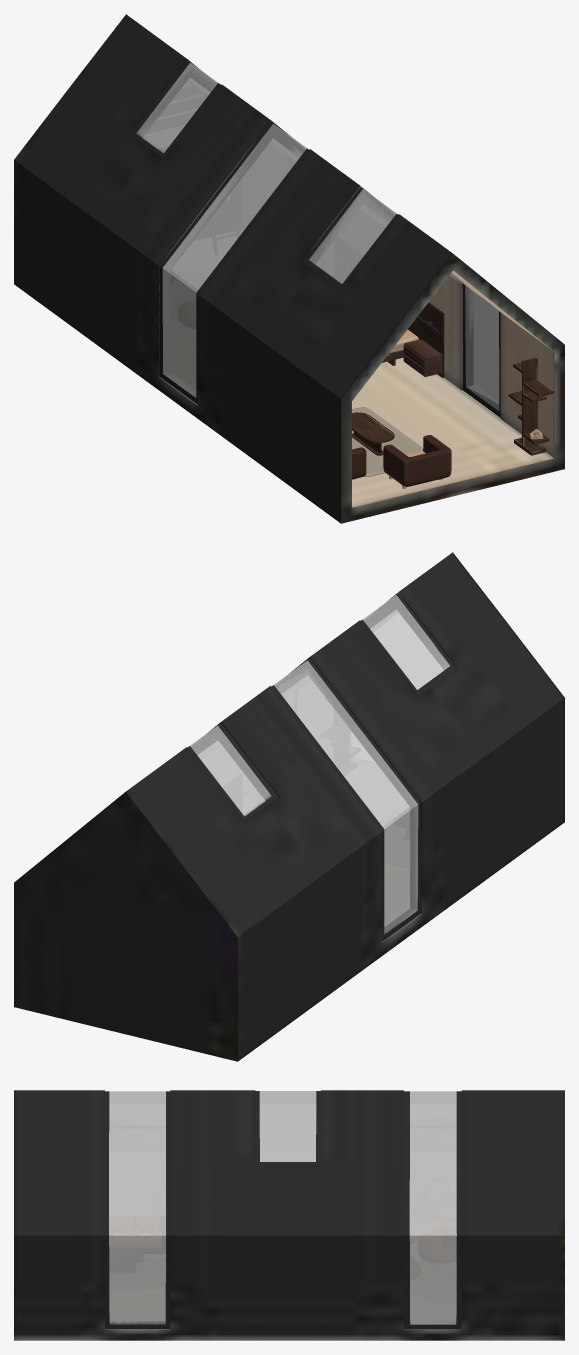
Rendered from interior-design.glb.
The picture shows the model from 3 angles, top to bottom: view 1: azimuth 30°, elevation 25°; view 2: azimuth 150°, elevation 25°; view 3: azimuth 270°, elevation 25°; orthographic projection. The views are drawn at different scales.
Parts seen in each view (by area): view 1: defaultMaterial (×7); view 2: defaultMaterial (×3); view 3: defaultMaterial (×3).
Part boxes in pixels (box(x1,y1,x2,y2)): defaultMaterial (×7): box(14, 14, 564, 523); defaultMaterial (×3): box(14, 552, 564, 1061); defaultMaterial (×3): box(14, 1090, 564, 1340).
Bounding box in the file's own units: 440 × 456 × 1114.
11 materials, 11 textured.
